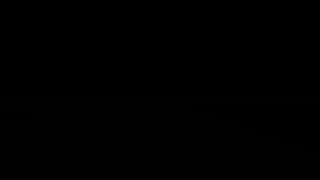turn_left: (185, 55, 202, 72)
